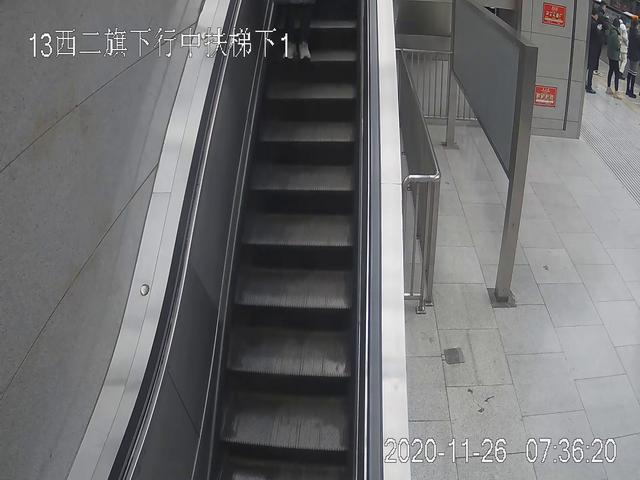person: (606, 19, 625, 101), (587, 15, 603, 95)
